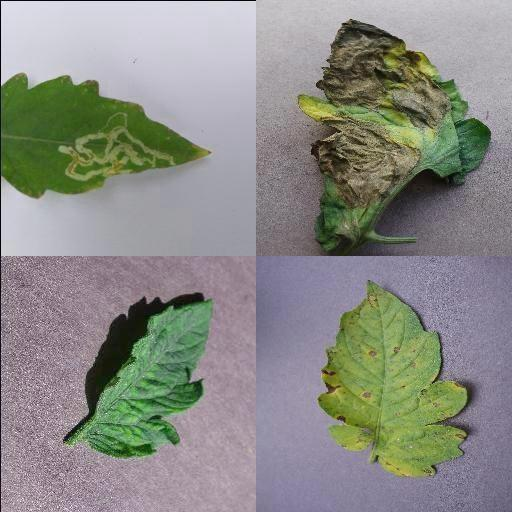Late Blight: (298, 16, 494, 256)
Leaf Miner: (0, 72, 210, 201)
Mosaic Virus: (83, 297, 213, 459)
Septoria: (317, 280, 470, 482)
